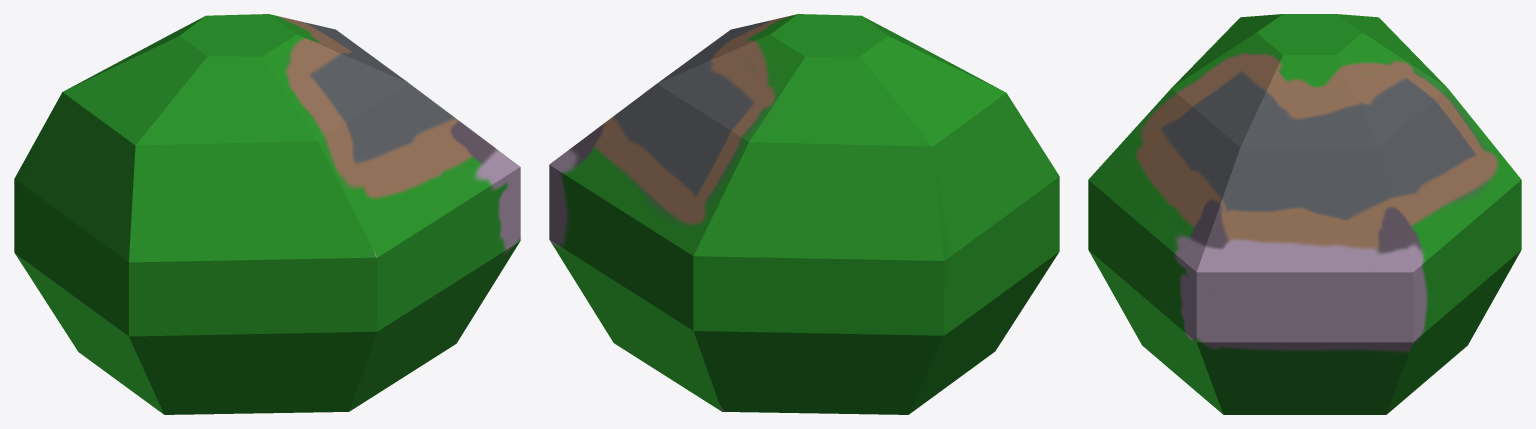
File: helmet.fbx
3 views of the same model, side by side, from view 1: azimuth 30°, elevation 25°; view 2: azimuth 150°, elevation 25°; view 3: azimuth 270°, elevation 25° (orthographic). The views are drawn at different scales.
Visible parts, largest first — view 1: Circle; view 2: Circle; view 3: Circle.
Boxes of the visible parts, box(x1,y1,x2,y2) form: Circle: box(14, 14, 520, 414); Circle: box(549, 14, 1059, 414); Circle: box(1088, 14, 1521, 414).
Bounding box in the file's own units: 104 × 80.39 × 105.
Materials: 1 (1 with a texture image).
